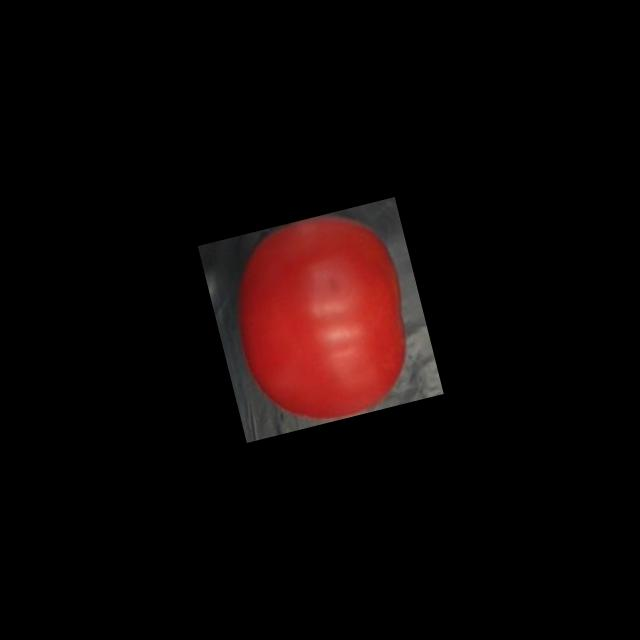tomato: (210, 200, 432, 440)
